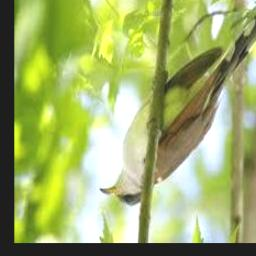Cuckoo: (99, 5, 256, 206)
